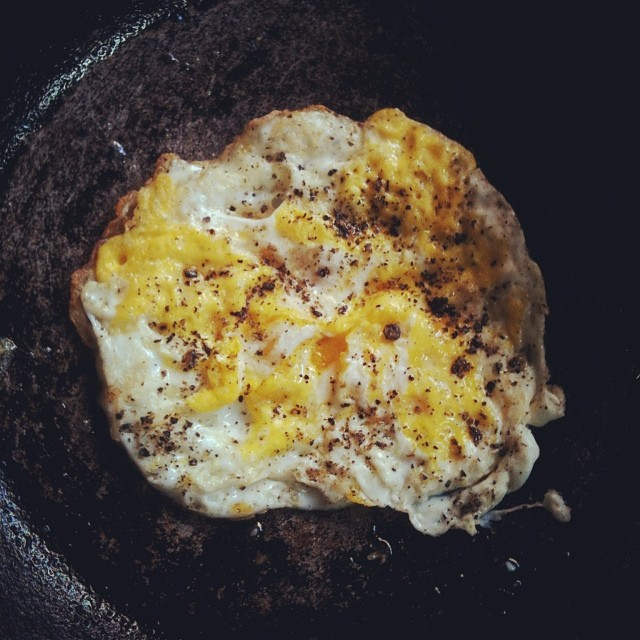fried egg: (90, 108, 577, 516)
